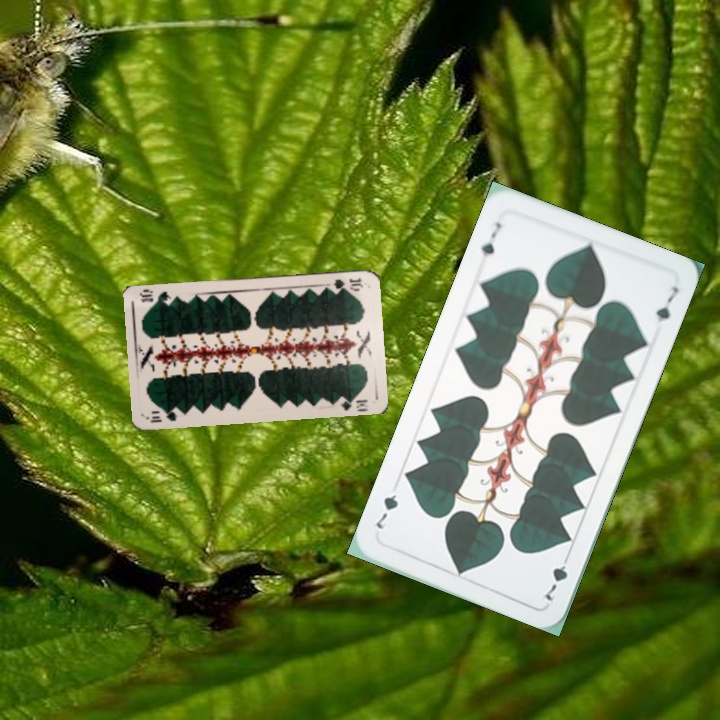G10: (145, 406, 180, 425), (330, 274, 365, 292)
G7: (541, 548, 573, 604), (476, 218, 504, 259)
